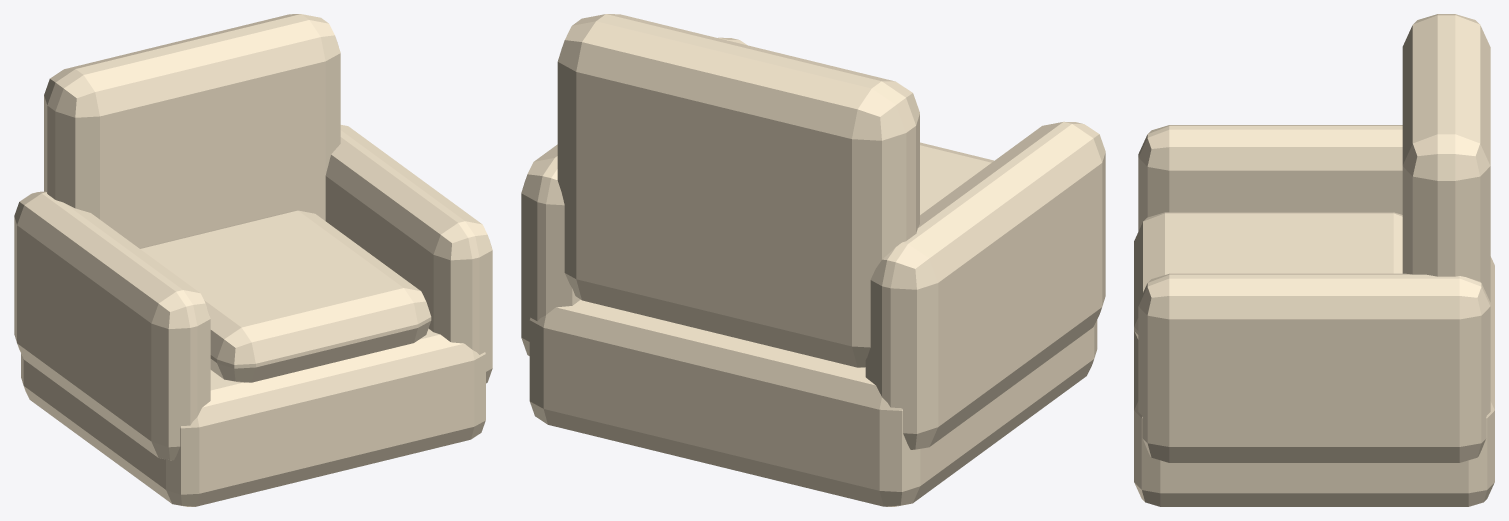
File: poltrona.glb
3 views of the same model, side by side, from view 1: azimuth 30°, elevation 25°; view 2: azimuth 150°, elevation 25°; view 3: azimuth 270°, elevation 25° (orthographic). The views are drawn at different scales.
Visible parts, largest first — view 1: poltrona; view 2: poltrona; view 3: poltrona.
Part boxes in pixels (left/top/right/bottom): poltrona: left=14, top=14, right=492, bottom=506; poltrona: left=521, top=14, right=1105, bottom=506; poltrona: left=1134, top=14, right=1494, bottom=506.
Size of the model in its own units: 0.96 by 0.9 by 0.82.
